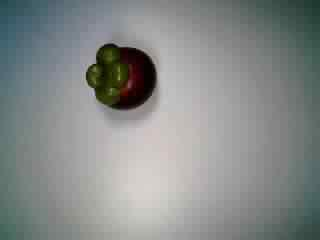mangosteen: (83, 39, 158, 112)
